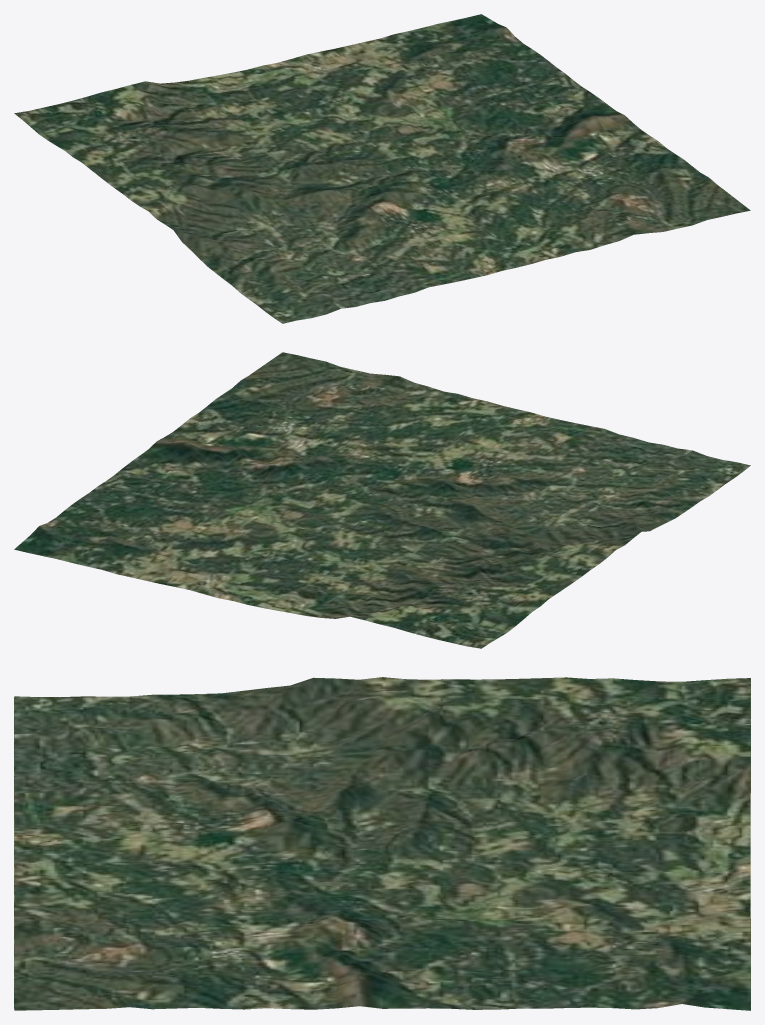
3 views of the same model, one above another, from view 1: azimuth 30°, elevation 25°; view 2: azimuth 150°, elevation 25°; view 3: azimuth 270°, elevation 25° (orthographic). The views are drawn at different scales.
Bounding box in the file's own units: 15672 × 515 × 15595.
1 material, 1 textured.
